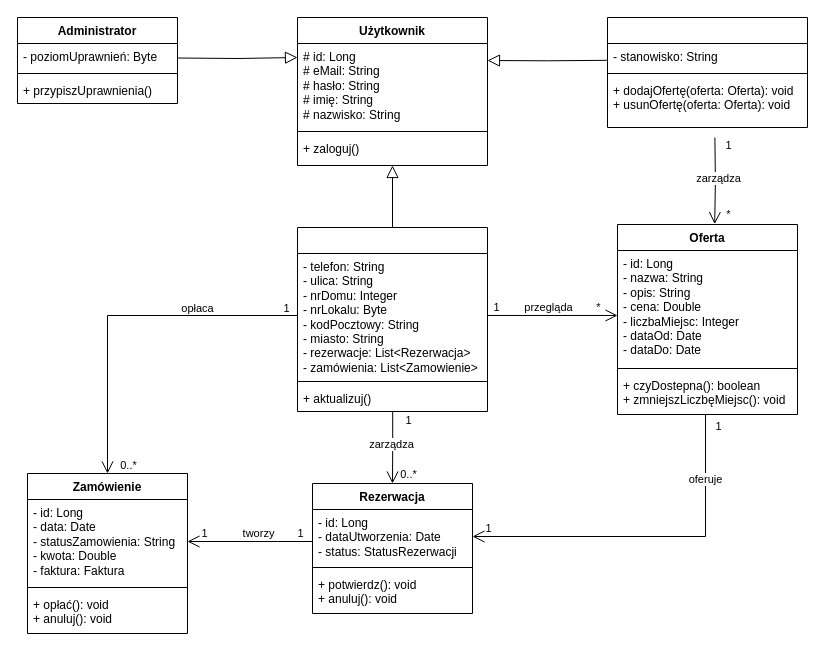
This 825x654 diagram has some shape labels left out. Each missing label, with the box of its shape:
Klient: (296, 226, 488, 412)
Pracownik: (606, 16, 808, 128)
